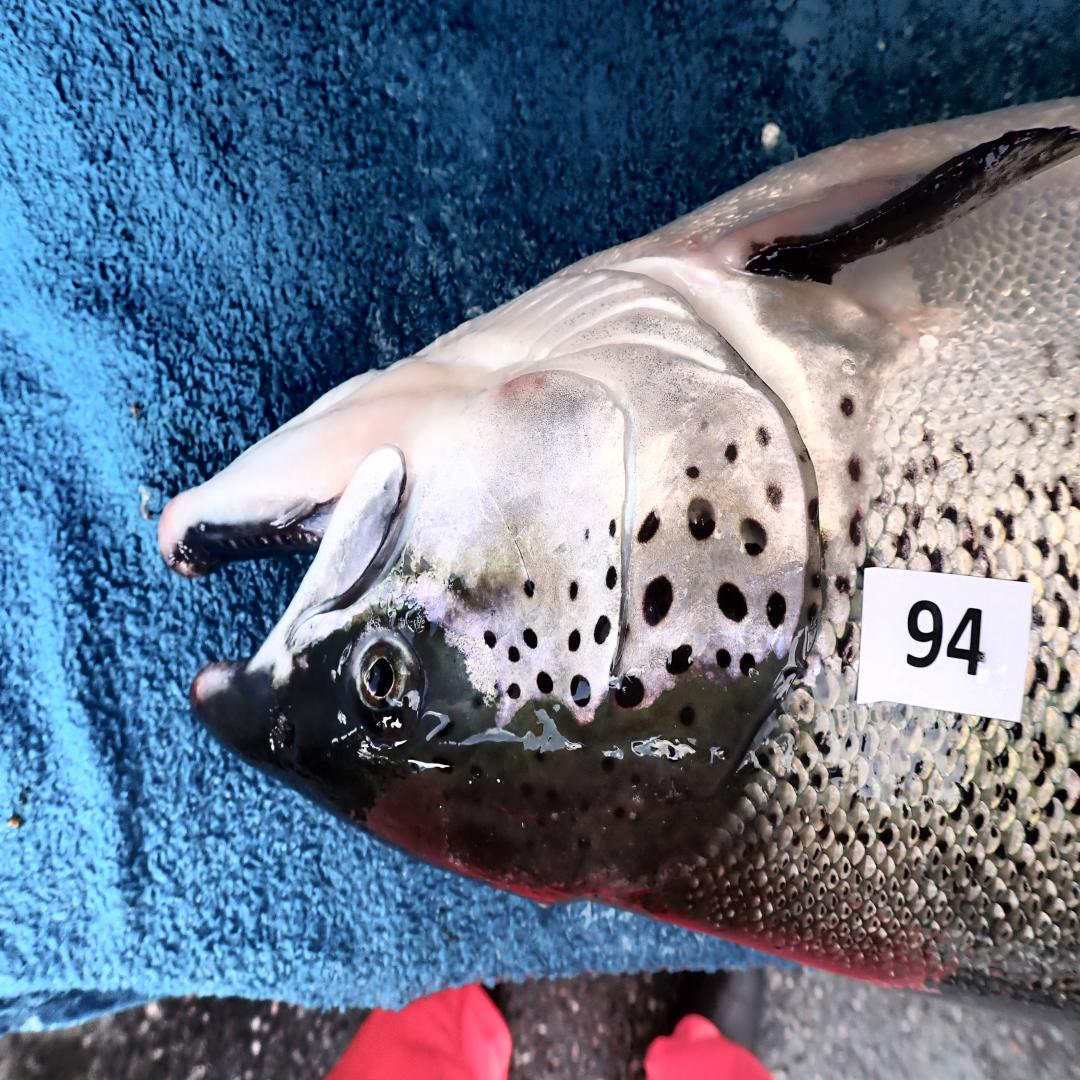spot: (643, 576, 673, 624), (716, 582, 747, 622), (687, 497, 715, 540), (740, 518, 768, 557), (614, 675, 643, 709), (667, 644, 692, 676), (766, 593, 787, 627), (637, 512, 660, 543), (570, 675, 591, 706), (593, 616, 612, 644), (449, 575, 468, 597), (536, 672, 553, 695), (766, 484, 783, 506), (740, 652, 755, 675), (523, 627, 538, 650), (755, 425, 770, 447), (715, 650, 732, 669), (567, 630, 580, 652), (808, 498, 818, 526), (605, 565, 616, 588), (508, 683, 521, 700), (483, 630, 496, 647), (726, 444, 738, 461), (808, 603, 818, 623), (523, 579, 534, 596), (686, 467, 700, 478), (508, 647, 519, 661), (570, 582, 578, 599), (812, 573, 820, 588), (610, 520, 616, 537), (584, 529, 589, 540)
